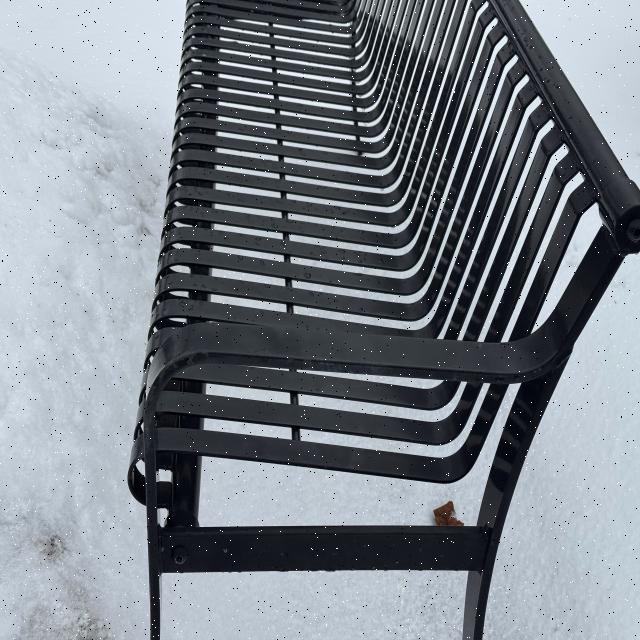Bench: (126, 2, 624, 639)
